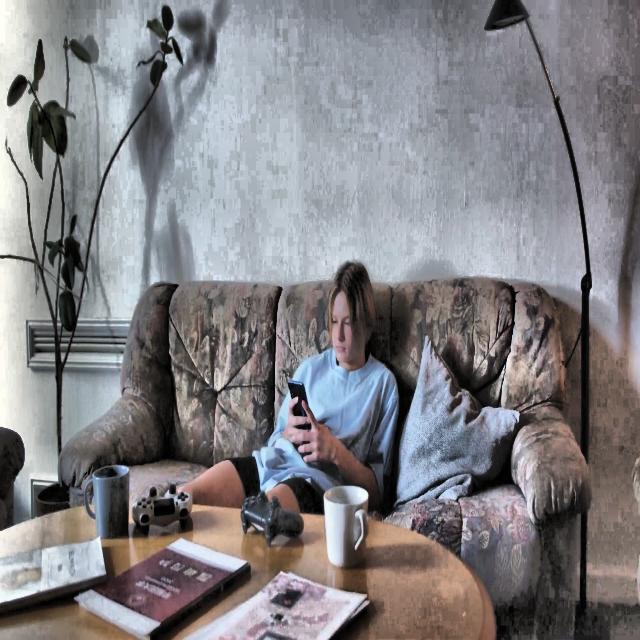Phone: (286, 378, 316, 434)
